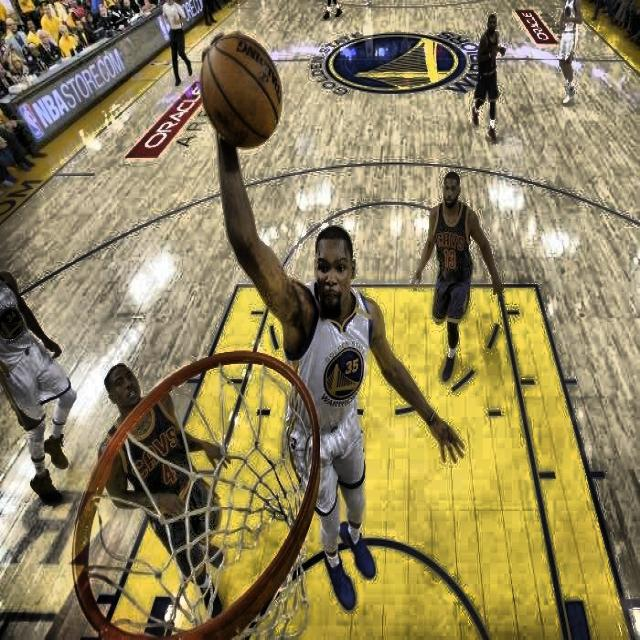board: (202, 34, 282, 150)
